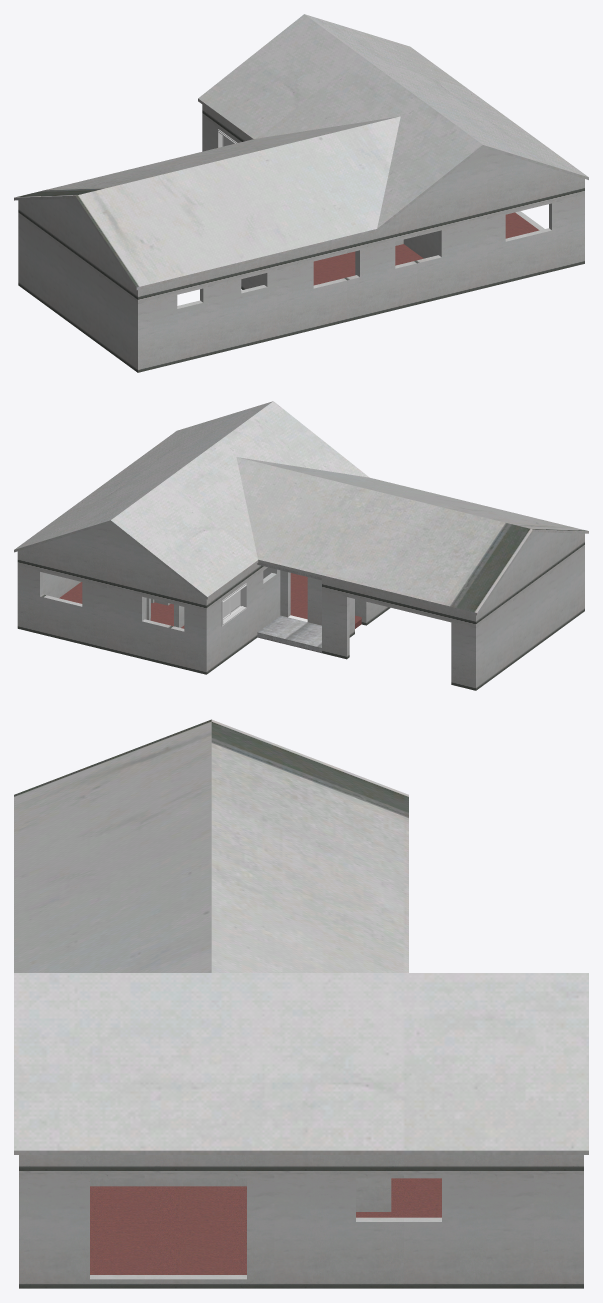
File: bsin.glb
The picture shows the model from 3 angles, top to bottom: view 1: azimuth 30°, elevation 25°; view 2: azimuth 150°, elevation 25°; view 3: azimuth 270°, elevation 25°; orthographic projection. The views are drawn at different scales.
Visible parts, largest first — view 1: entity_0_geometry; view 2: entity_0_geometry, Cube.008; view 3: entity_0_geometry.
Part boxes in pixels (x1,y1,x2,y2): entity_0_geometry: (14, 14, 588, 372); entity_0_geometry: (14, 401, 588, 690); Cube.008: (221, 583, 246, 626); entity_0_geometry: (14, 719, 588, 1288).
Size of the model in its own units: 20.74 by 6.38 by 14.19.
9 materials, 6 textured.
